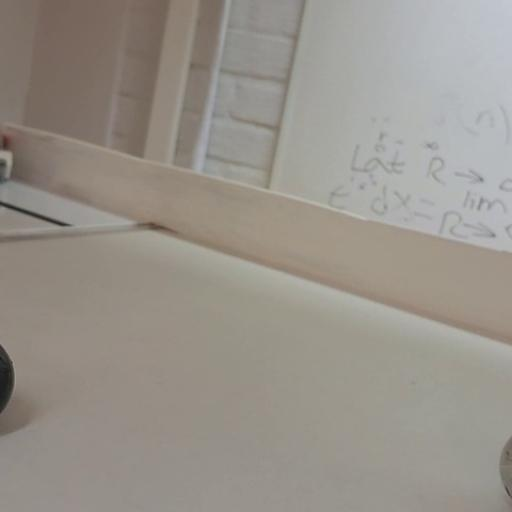alive: (501, 433, 512, 509)
dead: (0, 338, 15, 417)
